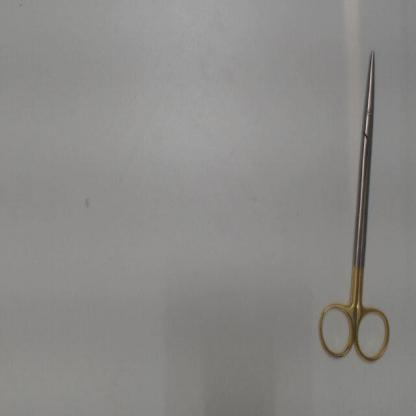7 Metzenbaum Scissors: (314, 41, 394, 371)
